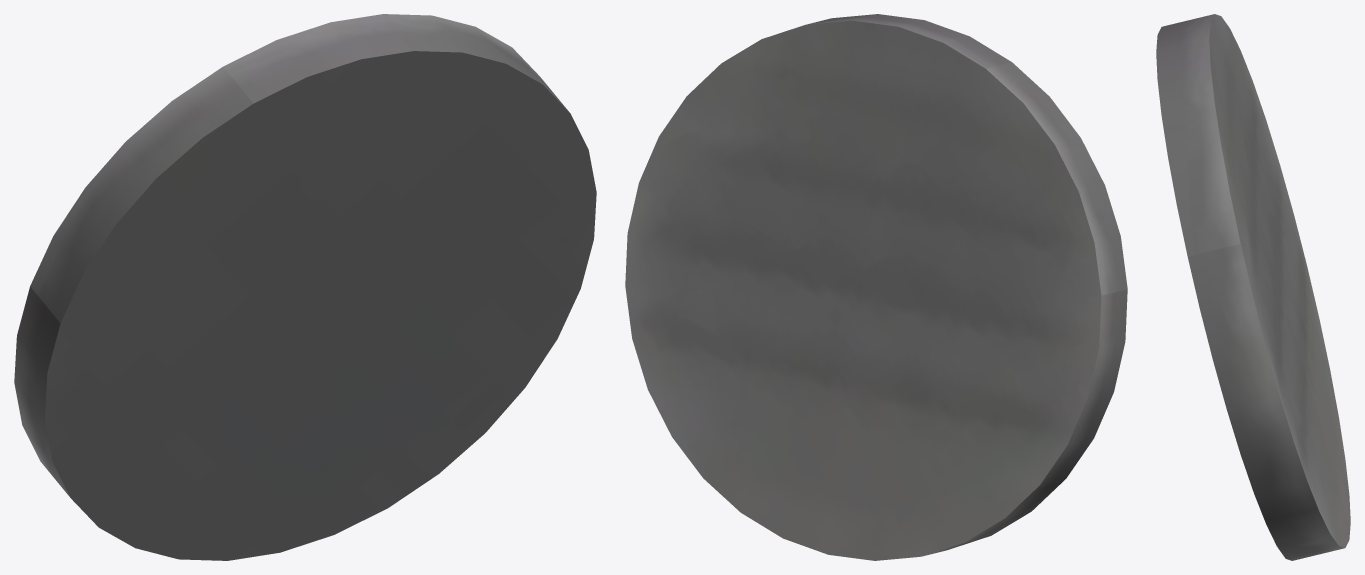
Rendered from cabinet__action_button_guide_0_2.glb.
3 views of the same model, side by side, from view 1: azimuth 30°, elevation 25°; view 2: azimuth 150°, elevation 25°; view 3: azimuth 270°, elevation 25° (orthographic). The views are drawn at different scales.
Visible parts, largest first — view 1: geometry_0; view 2: geometry_0; view 3: geometry_0.
Part boxes in pixels (x1,y1,x2,y2): geometry_0: [14, 14, 596, 560]; geometry_0: [625, 14, 1127, 560]; geometry_0: [1156, 14, 1350, 560].
Size of the model in its own units: 0.04 by 0.0397 by 0.0141.
1 material, 1 textured.
